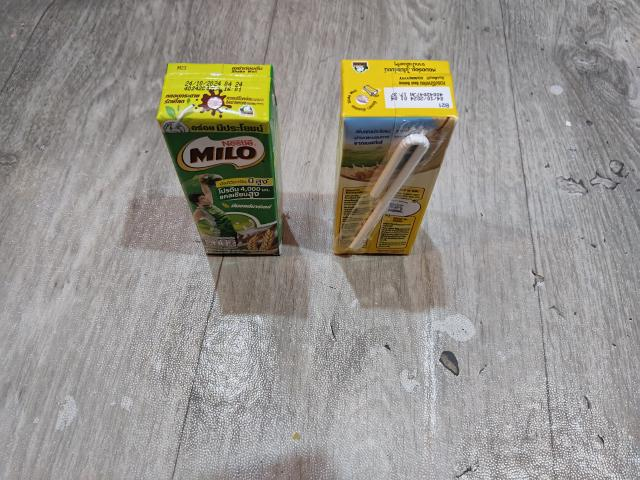drink_box: (325, 53, 466, 260), (149, 54, 288, 261)
